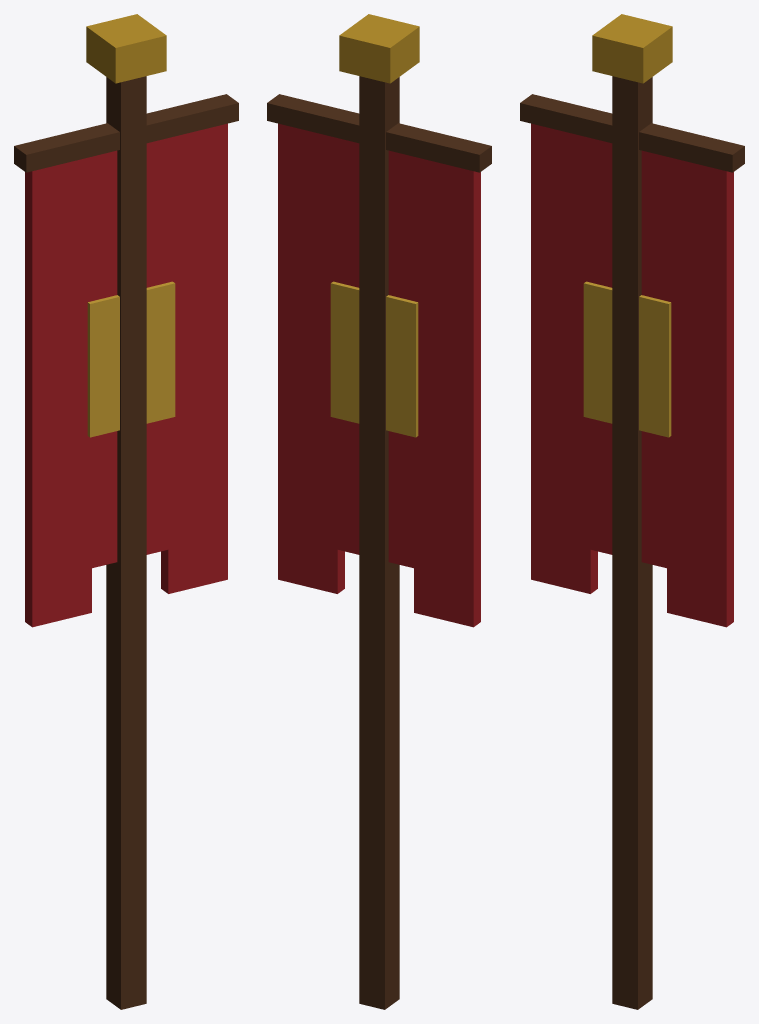
File: ld-banner-pole.glb
The picture shows the model from 3 angles, left to right: view 1: azimuth 30°, elevation 25°; view 2: azimuth 150°, elevation 25°; view 3: azimuth 330°, elevation 25°; orthographic projection.
Visible parts, largest first — view 1: box-prop; view 2: box-prop; view 3: box-prop.
Part boxes in pixels (box(x1,y1,x2,y2)): box-prop: box(14, 14, 238, 1009); box-prop: box(267, 14, 491, 1009); box-prop: box(520, 14, 744, 1009).
Bounding box in the file's own units: 1 × 4.36 × 0.24.
